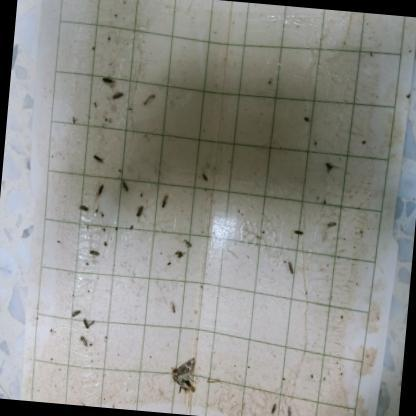prays_oleae: (167, 292, 181, 322), (284, 256, 300, 280), (117, 174, 133, 197), (292, 223, 307, 247), (90, 149, 107, 170), (95, 178, 107, 206), (76, 332, 92, 353), (76, 195, 92, 215), (132, 204, 147, 225), (110, 90, 126, 107), (324, 214, 338, 232), (82, 318, 98, 332), (88, 245, 100, 263), (101, 74, 116, 88), (68, 303, 81, 319), (268, 401, 280, 416), (173, 248, 184, 262), (162, 196, 171, 212), (184, 235, 192, 250)
